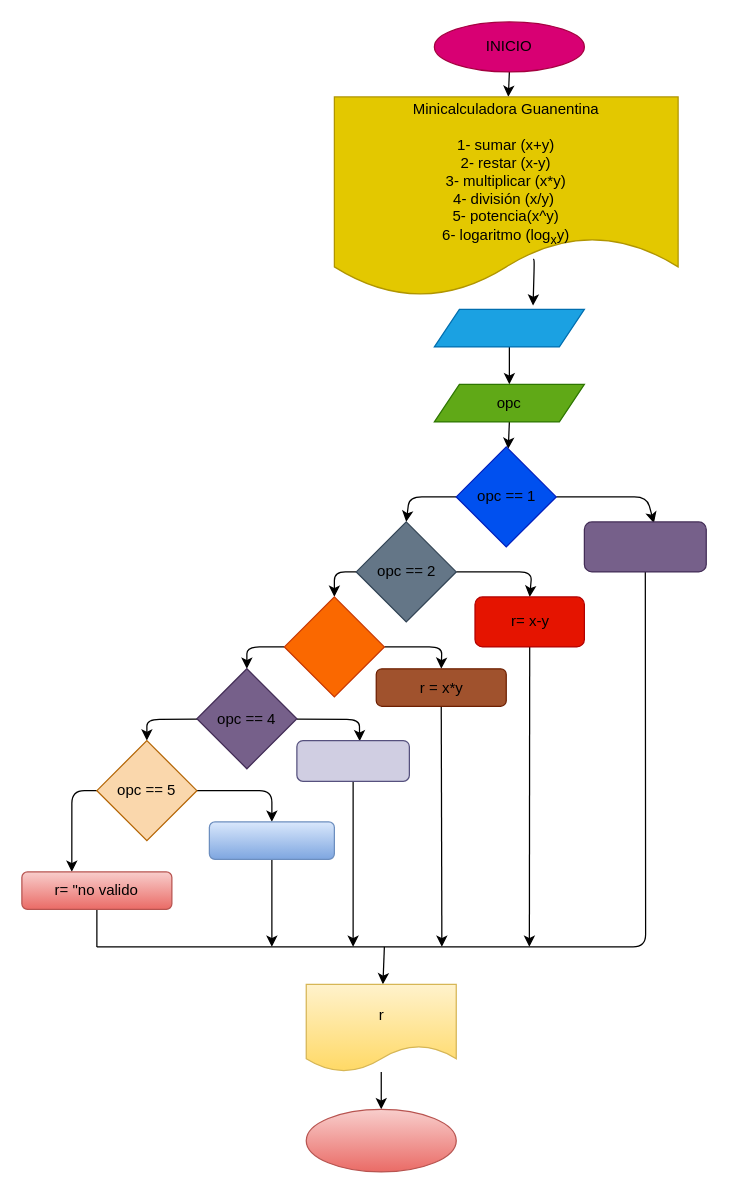
Image size: 729x1194. Some labels were removed from this diagram. Here are the shapes that lost their labels. From the top down, the centre of each, then its label:
(x=508, y=327): x,y
(x=644, y=546): r= x+y
(x=333, y=646): opc == 3
(x=352, y=760): r= x/y
(x=271, y=840): r = x^y
(x=380, y=1140): FIN
